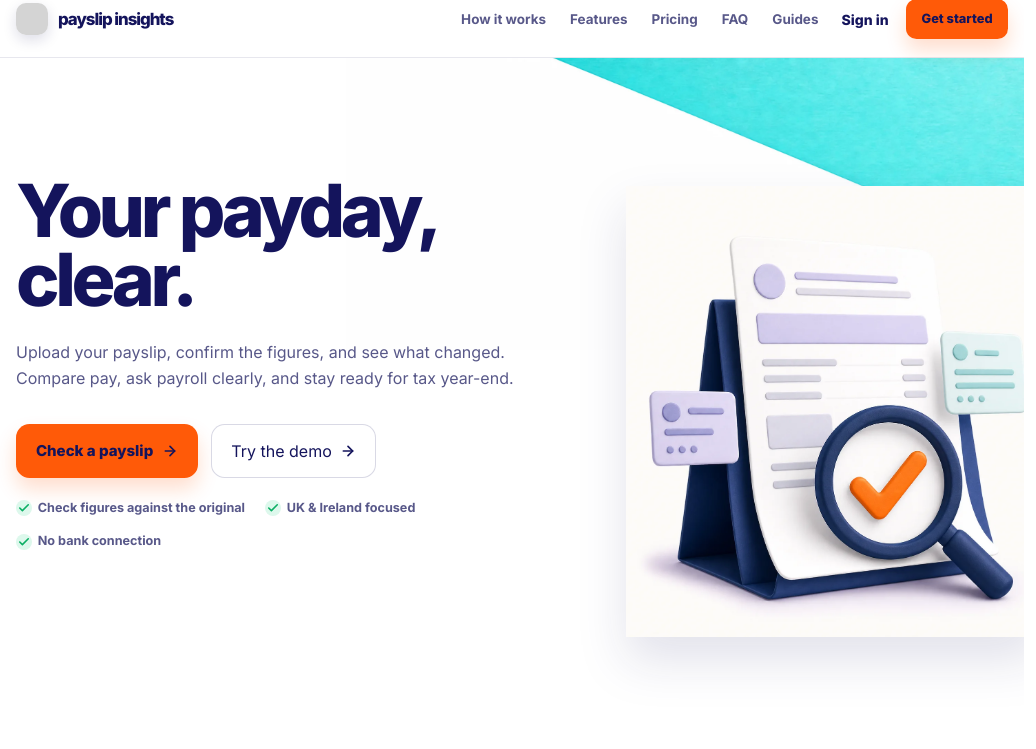
it: Landing › keeps the selected consumer journey wired to sign-up, demo, and anchored sections
Expected: the link "Pricing" is shown, [651, 9, 698, 29]
What coordinates should you click on to do the following:
click the button "Try the demo"
I would click on:
 (294, 451)
Its box is [212, 424, 376, 478].
(page scrolled)
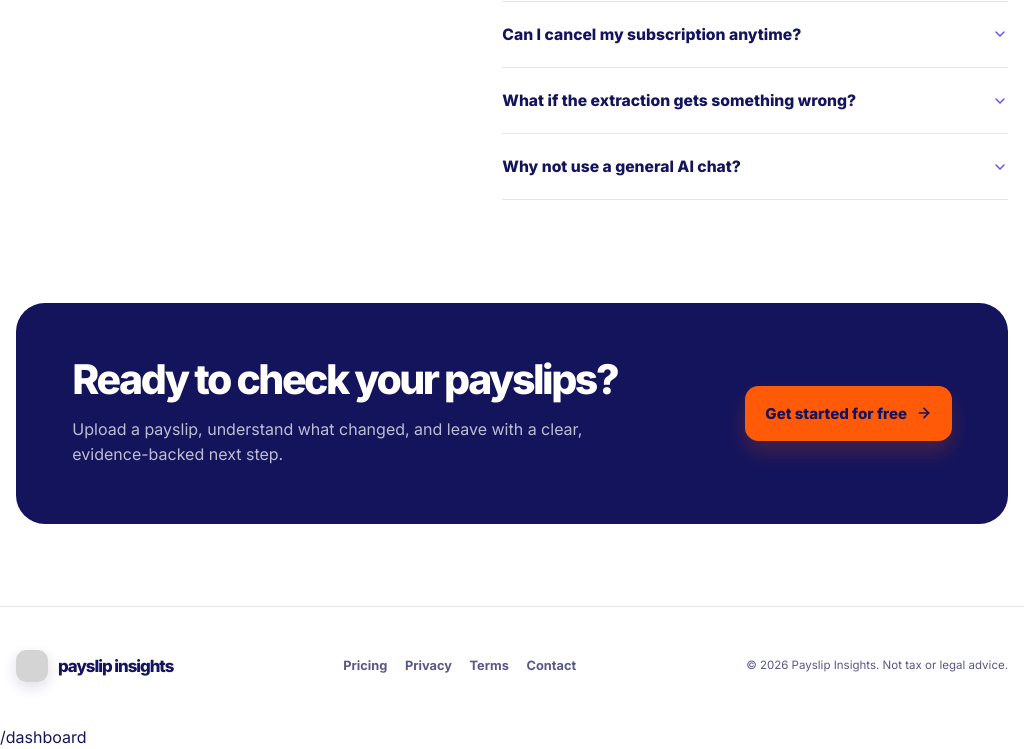
Result: the text with test id "location" reads "/dashboard" at [0, 727, 86, 747]
